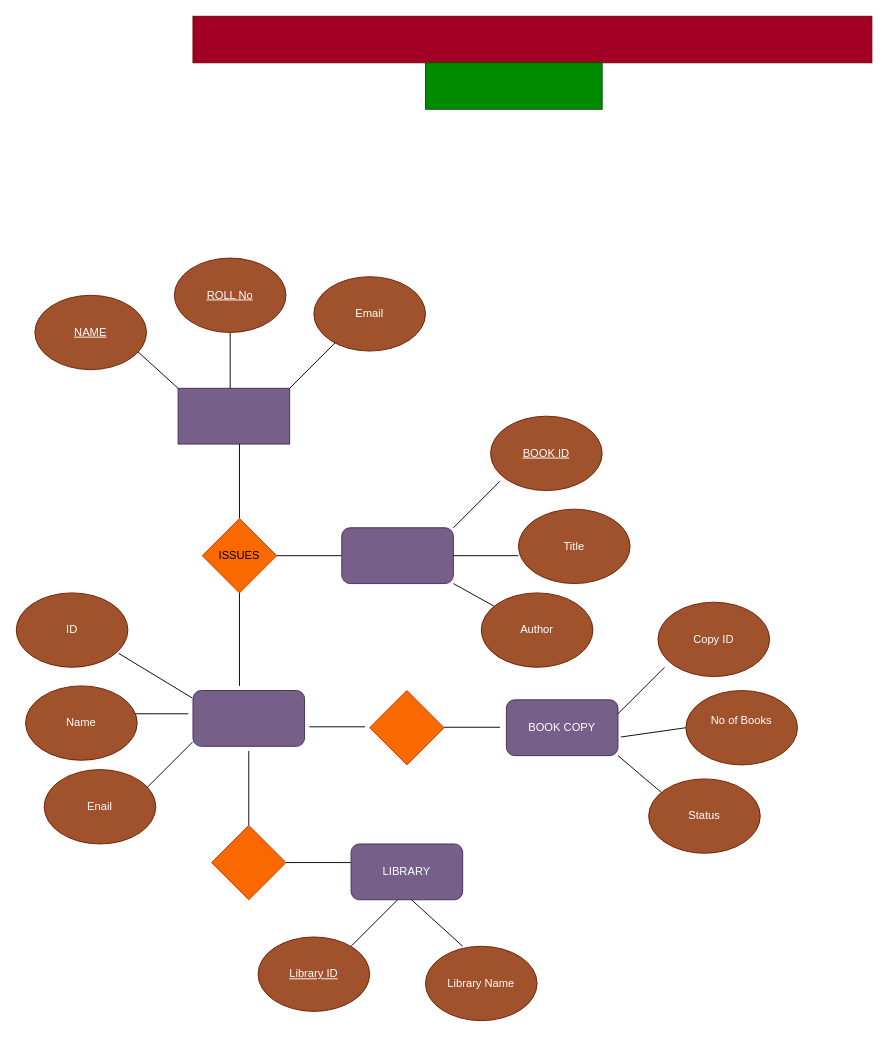
Image size: 888x1037. Some labels were removed from this diagram. The shapes that lost their labels are listed below. From the top down, each one's box as (x1, y1, x2, y2) in pixels, then its label:
(192, 15, 872, 63): LIBRARY MANAGEMENT SYSTEM
(425, 62, 602, 109): ER DIAGRAM
(177, 387, 290, 444): STUDENT
(341, 527, 453, 584): BOOK
(192, 690, 305, 746): LIBRARIAN
(369, 690, 444, 765): MANAGES
(211, 824, 286, 900): MANTAINS
